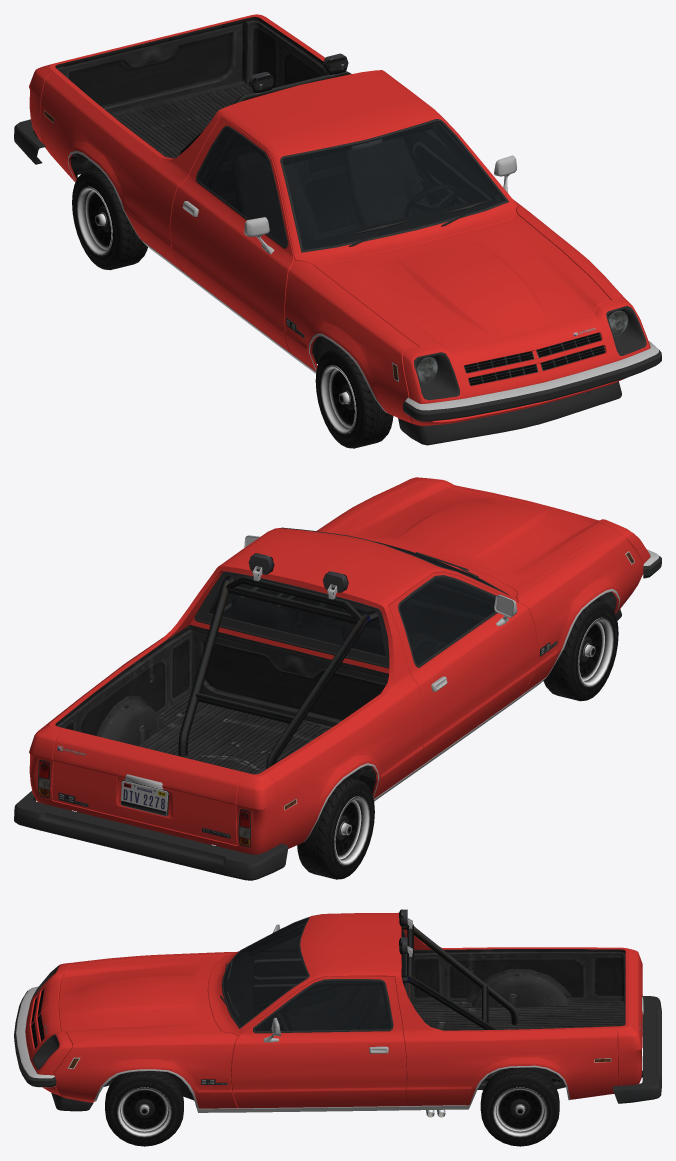
The model's file is doutrive-78-low-poly-model-30700a.glb.
3 renders of one model, top to bottom at view 1: azimuth 30°, elevation 25°; view 2: azimuth 150°, elevation 25°; view 3: azimuth 270°, elevation 25°, orthographic. The views are drawn at different scales.
Parts seen in each view (by area): view 1: body, wheel-front-right, wheel-back-right; view 2: body, wheel-back-right, wheel-front-right; view 3: body, wheel-back-left, wheel-front-left.
Part boxes in pixels (bbox=[...]): body: bbox=[14, 14, 661, 445]; wheel-front-right: bbox=[315, 347, 393, 448]; wheel-back-right: bbox=[72, 168, 147, 270]; body: bbox=[14, 477, 661, 880]; wheel-back-right: bbox=[240, 777, 374, 879]; wheel-front-right: bbox=[543, 600, 618, 701]; body: bbox=[14, 909, 661, 1117]; wheel-back-left: bbox=[480, 1067, 559, 1146]; wheel-front-left: bbox=[105, 1071, 183, 1146].
Bounding box in the file's own units: 1.75 × 1.39 × 4.7.
8 materials, 7 textured.
